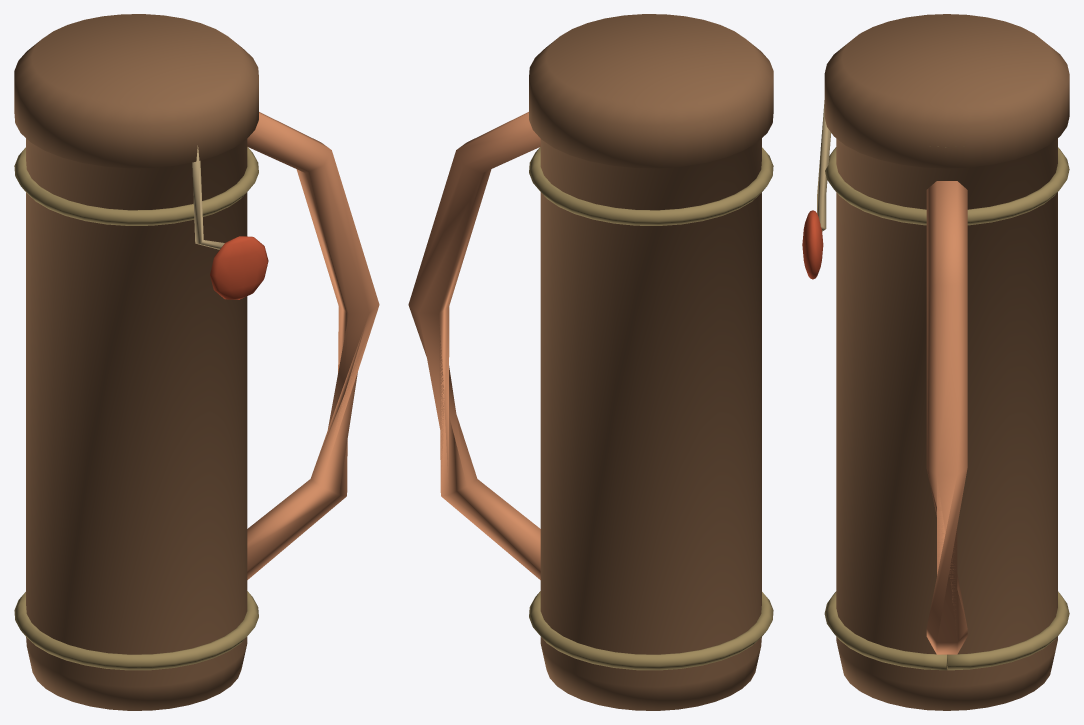
The model's file is scroll-case.glb.
The picture shows the model from 3 angles, left to right: view 1: azimuth 30°, elevation 25°; view 2: azimuth 150°, elevation 25°; view 3: azimuth 270°, elevation 25°; orthographic projection.
Parts seen in each view (by area): view 1: scroll-case__wood, scroll-case__clay, scroll-case__bronze, scroll-case__fruit, scroll-case__rope; view 2: scroll-case__wood, scroll-case__clay, scroll-case__bronze; view 3: scroll-case__wood, scroll-case__clay, scroll-case__bronze, scroll-case__fruit, scroll-case__rope.
Part boxes in pixels (<box>): scroll-case__wood: <box>14,14,258,710</box>; scroll-case__clay: <box>247,112,379,579</box>; scroll-case__bronze: <box>14,147,258,670</box>; scroll-case__fruit: <box>210,236,268,299</box>; scroll-case__rope: <box>192,145,224,249</box>; scroll-case__wood: <box>529,14,773,710</box>; scroll-case__clay: <box>408,112,540,579</box>; scroll-case__bronze: <box>529,147,773,670</box>; scroll-case__wood: <box>824,14,1069,710</box>; scroll-case__clay: <box>926,181,967,654</box>; scroll-case__bronze: <box>824,146,1069,670</box>; scroll-case__fruit: <box>802,210,823,279</box>; scroll-case__rope: <box>817,100,831,231</box>.
Bounding box in the file's own units: 0.6803 × 1.15 × 0.458.
